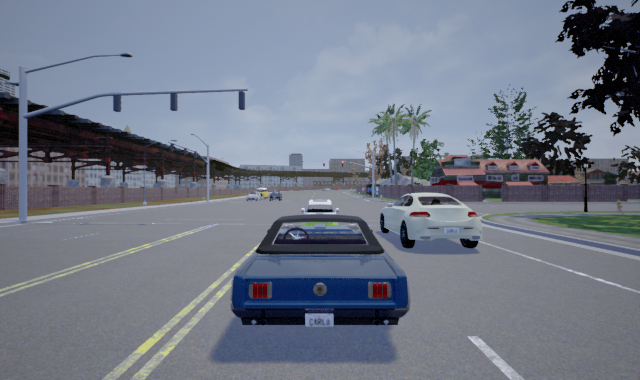pedestrian: (612, 197, 627, 214)
traffic_light: (322, 162, 326, 168), (341, 161, 344, 167)
vehicle: (231, 214, 409, 325), (377, 191, 482, 249), (297, 198, 342, 241), (255, 187, 270, 199), (269, 191, 283, 201), (245, 193, 261, 201)
